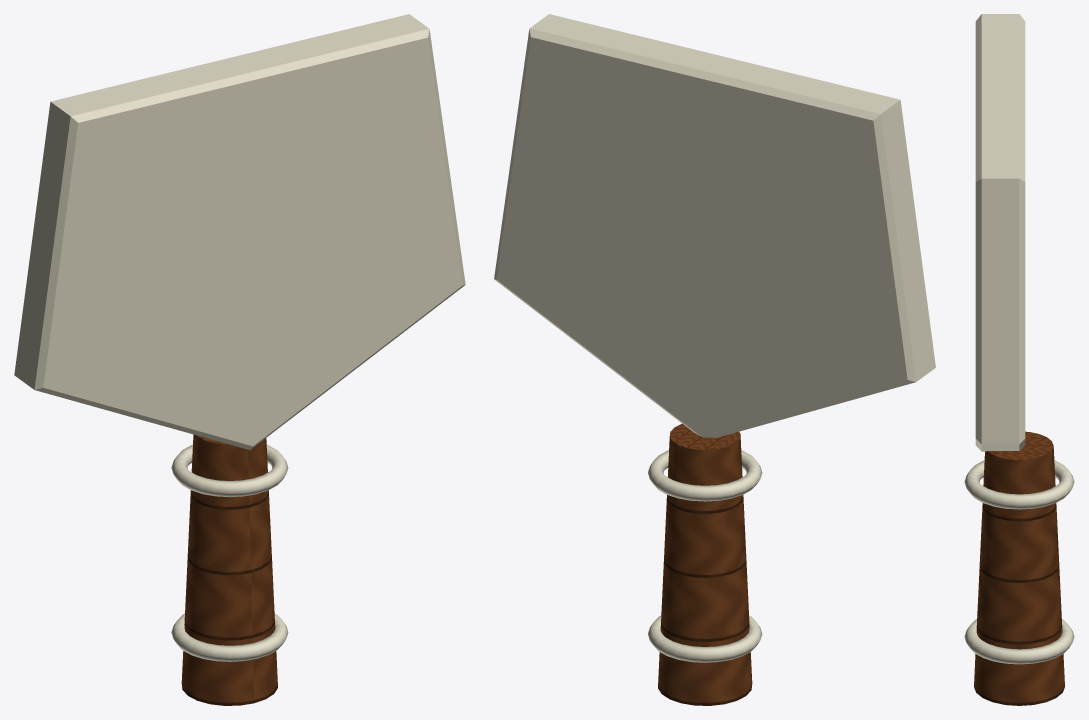
File: primitive-crafting-workshop-bone-spatula-a9b7f502__21544.glb
3 views of the same model, side by side, from view 1: azimuth 30°, elevation 25°; view 2: azimuth 150°, elevation 25°; view 3: azimuth 270°, elevation 25° (orthographic). The views are drawn at different scales.
Parts seen in each view (by area): view 1: bone-spatula; view 2: bone-spatula; view 3: bone-spatula.
Part boxes in pixels (bbox=[...]): bone-spatula: bbox=[14, 14, 465, 705]; bone-spatula: bbox=[494, 14, 935, 705]; bone-spatula: bbox=[964, 14, 1074, 705].
Bounding box in the file's own units: 0.2465 × 0.343 × 0.058.
2 materials, 1 textured.
